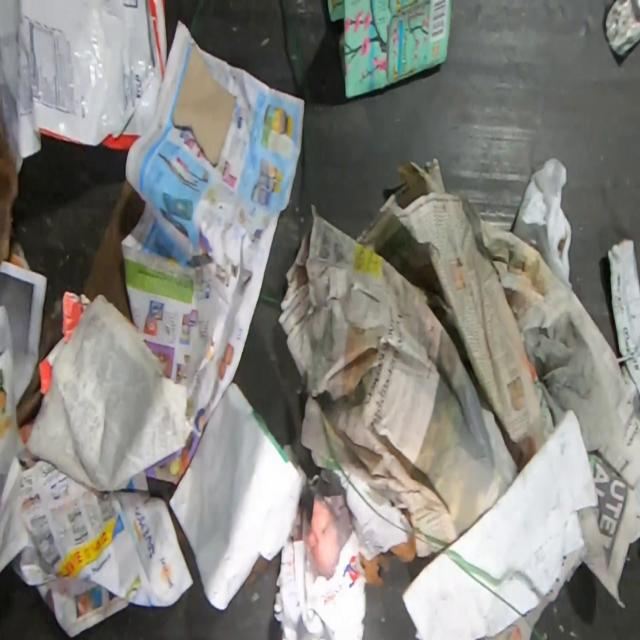cardboard: (327, 0, 452, 97), (173, 45, 237, 166), (0, 132, 18, 262)
soft_plastic: (0, 0, 168, 166)
